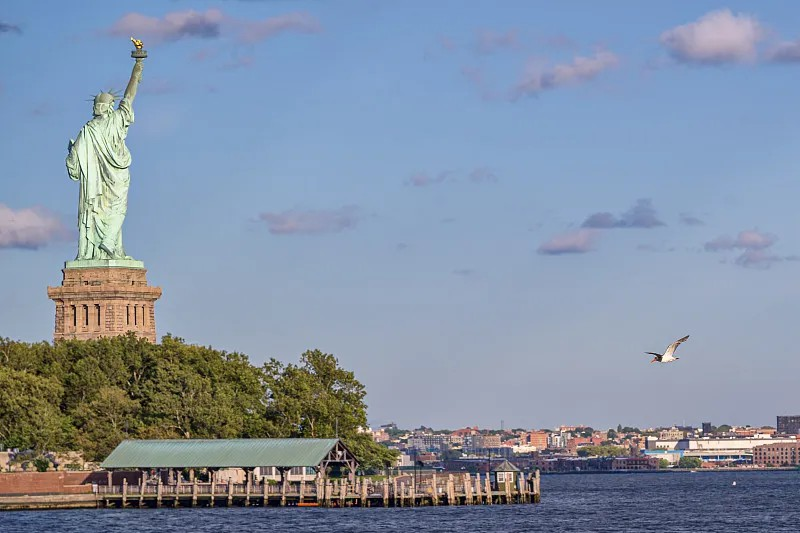SL: (45, 37, 162, 346)
